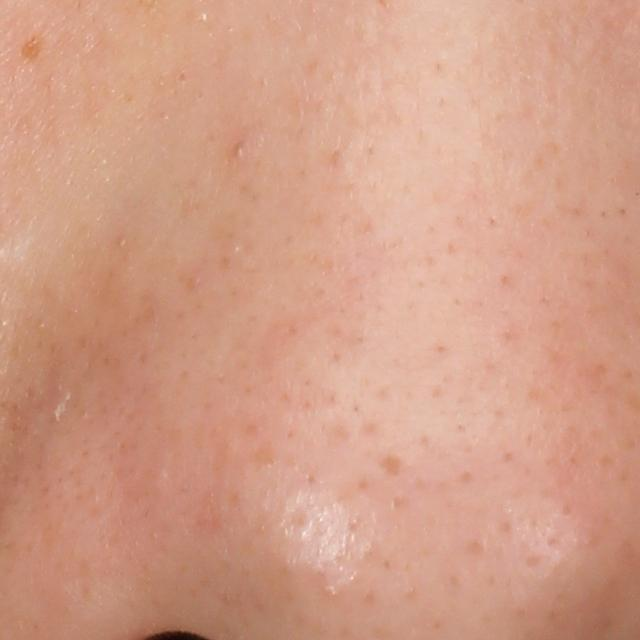comedo: (227, 140, 248, 163)
melasma: (16, 32, 43, 64)
